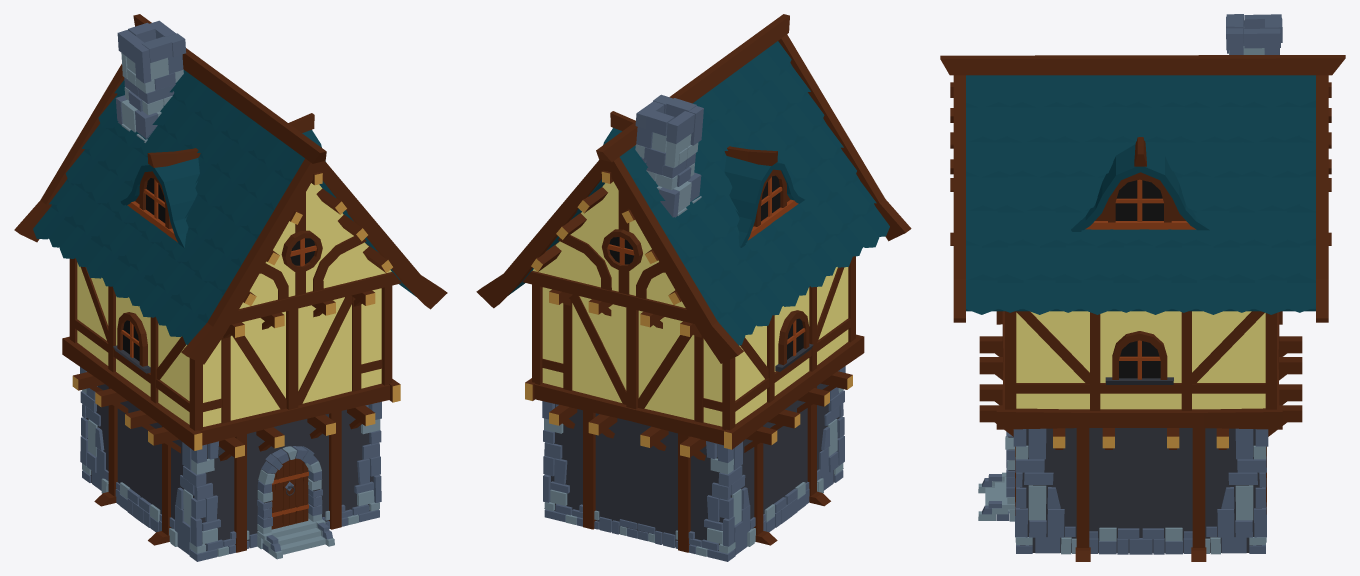
Rendered from Village_House_1.glb.
3 renders of one model, left to right at view 1: azimuth 30°, elevation 25°; view 2: azimuth 150°, elevation 25°; view 3: azimuth 270°, elevation 25°, orthographic. The views are drawn at different scales.
Parts seen in each view (by area): view 1: House_1; view 2: House_1; view 3: House_1.
Part boxes in pixels (x1,y1,x2,y2): House_1: (14, 14, 447, 561); House_1: (476, 14, 911, 561); House_1: (940, 14, 1345, 561).
Bounding box in the file's own units: 214 × 339 × 266.
